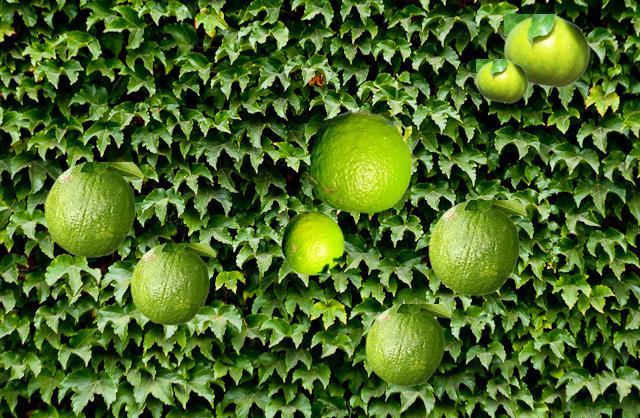dalandan: (309, 110, 410, 212), (428, 200, 526, 294), (44, 162, 142, 256), (365, 304, 450, 385), (130, 243, 215, 324), (504, 14, 589, 87), (281, 210, 343, 274), (476, 59, 527, 102)
